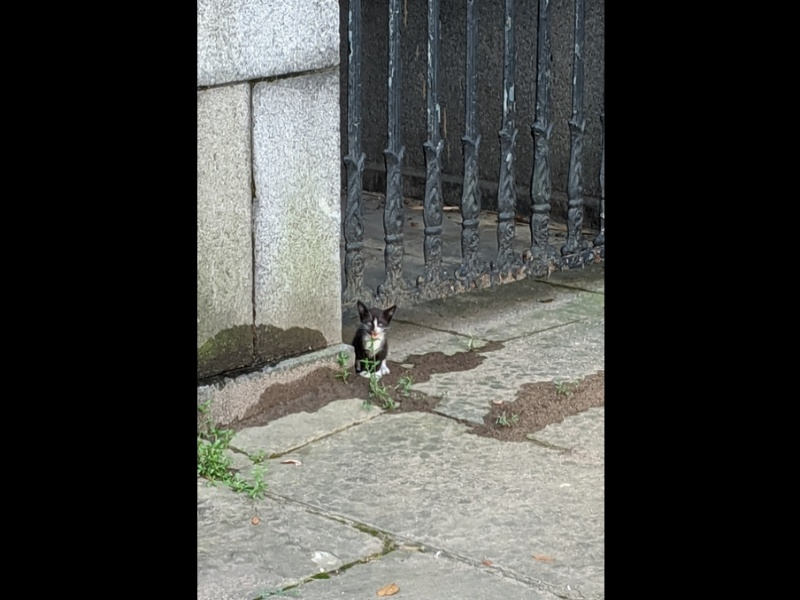cat: (345, 297, 396, 384)
